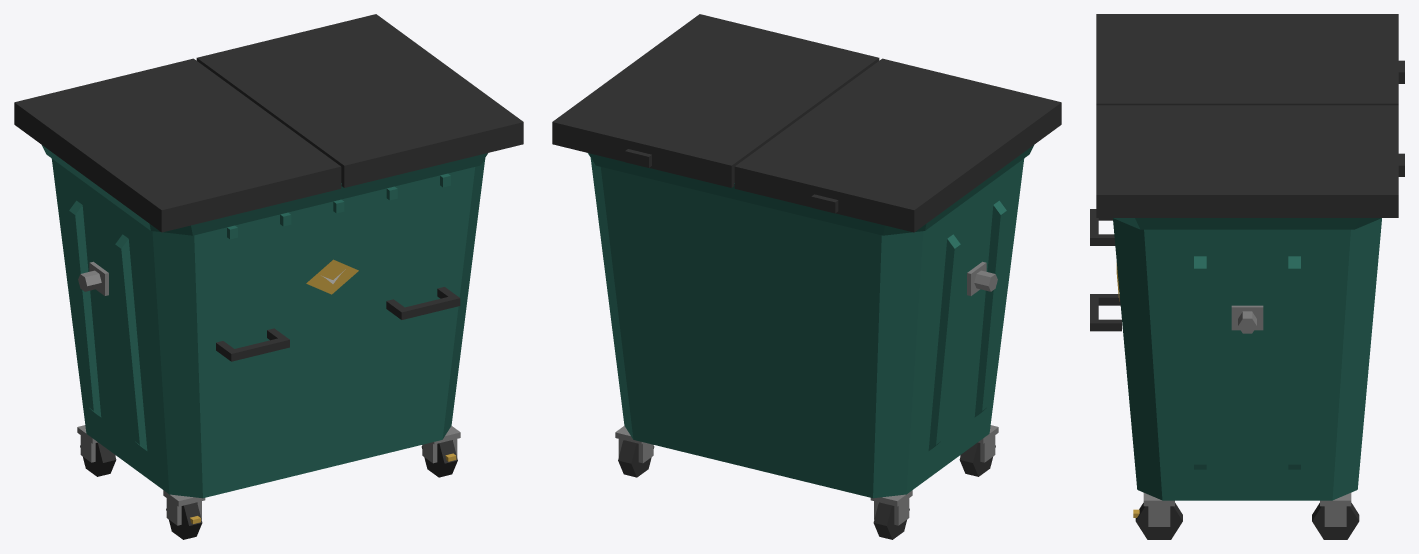
File: cop_konteyneri.glb
3 views of the same model, side by side, from view 1: azimuth 30°, elevation 25°; view 2: azimuth 150°, elevation 25°; view 3: azimuth 270°, elevation 25° (orthographic). The views are drawn at different scales.
Visible parts, largest first — view 1: cop_konteyneri; view 2: cop_konteyneri; view 3: cop_konteyneri.
Part boxes in pixels (x1,y1,x2,y2): cop_konteyneri: [14, 14, 523, 539]; cop_konteyneri: [552, 14, 1061, 539]; cop_konteyneri: [1090, 14, 1404, 539].
Bounding box in the file's own units: 1.4 × 1.29 × 1.
